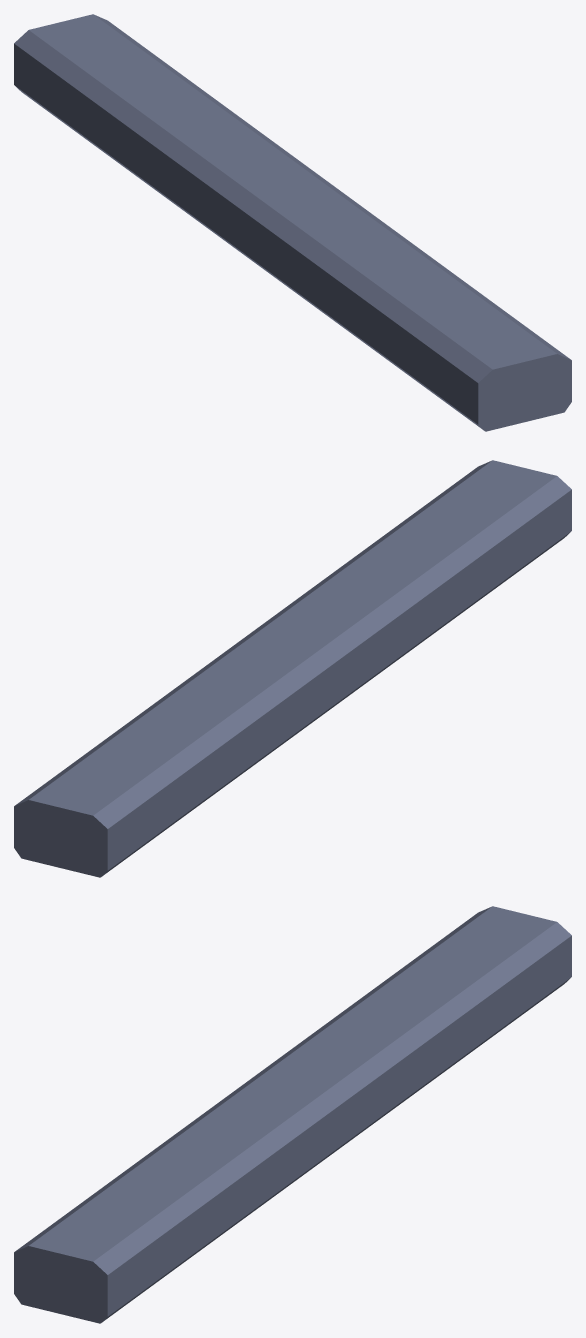
Rendered from WallCap_Stone.fbx.
3 renders of one model, top to bottom at view 1: azimuth 30°, elevation 25°; view 2: azimuth 150°, elevation 25°; view 3: azimuth 330°, elevation 25°, orthographic.
Visible parts, largest first — view 1: WallCap_Stone; view 2: WallCap_Stone; view 3: WallCap_Stone.
Boxes of the visible parts, x1,y1,x2,y2 form: WallCap_Stone: (14, 14, 571, 431); WallCap_Stone: (14, 460, 571, 877); WallCap_Stone: (14, 906, 571, 1323).
Bounding box in the file's own units: 0.2334 × 0.1435 × 2.
